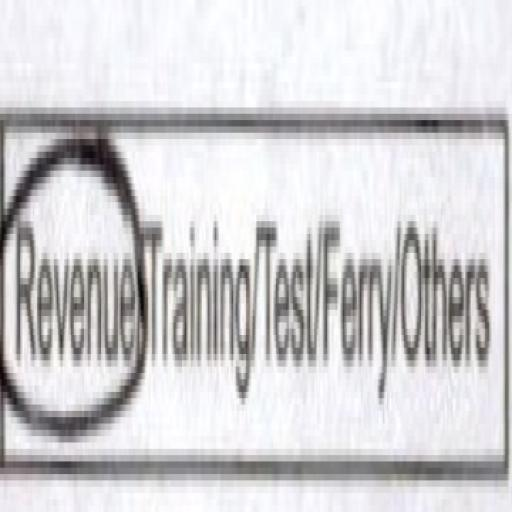check: (0, 9, 143, 512)
